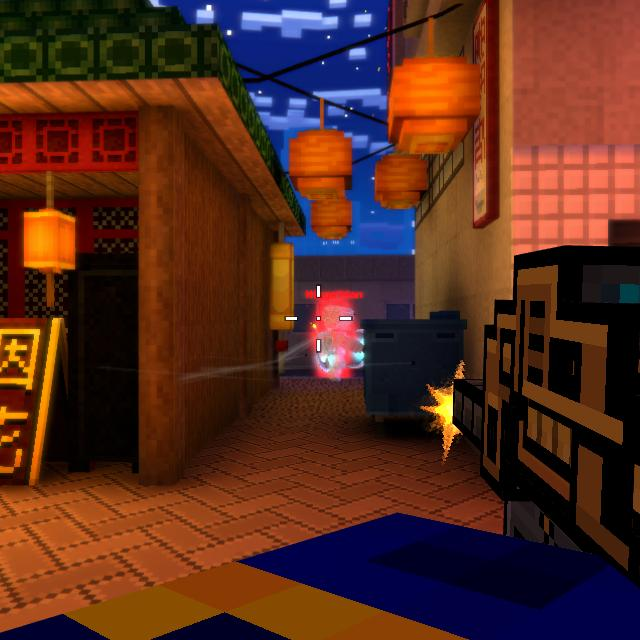Enemy: (317, 306, 363, 380)
